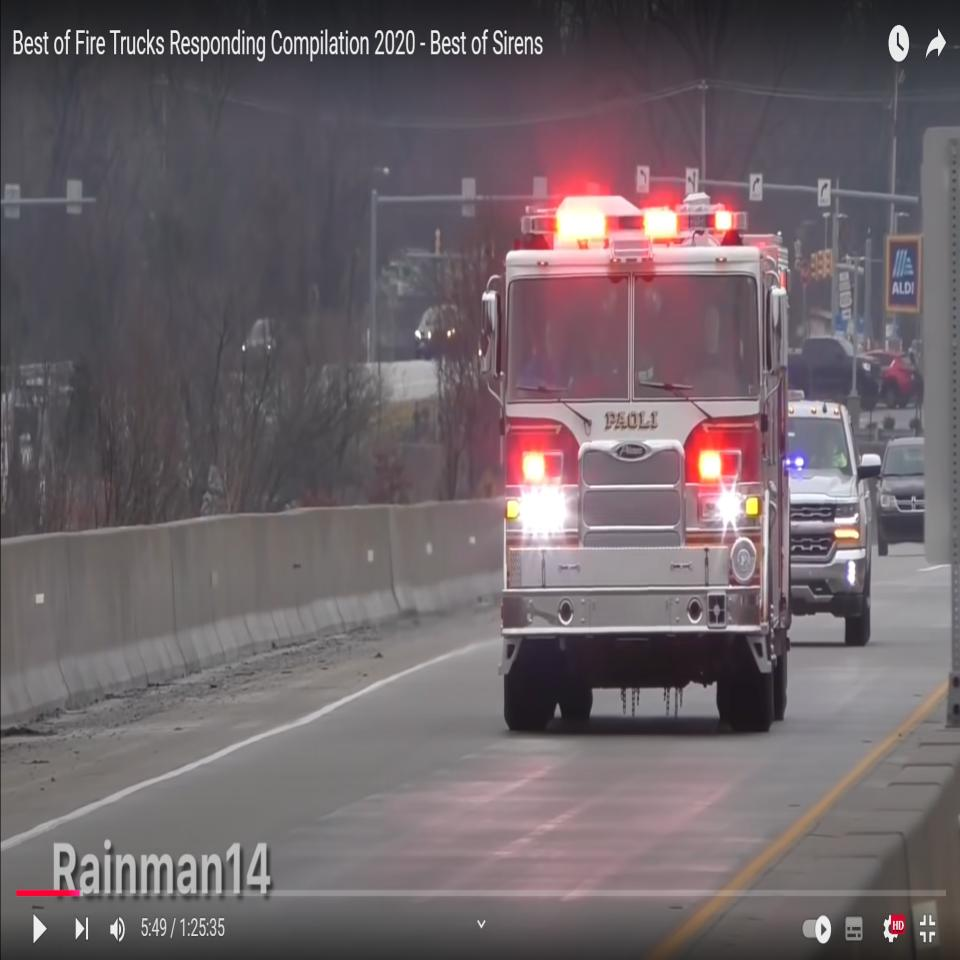viatura: (480, 194, 790, 735)
